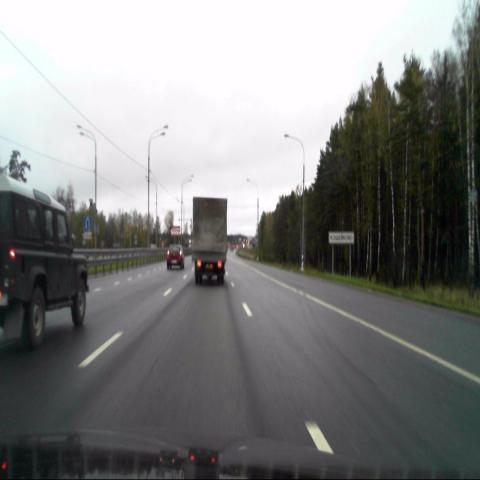6_3_1: (83, 216, 92, 232)
